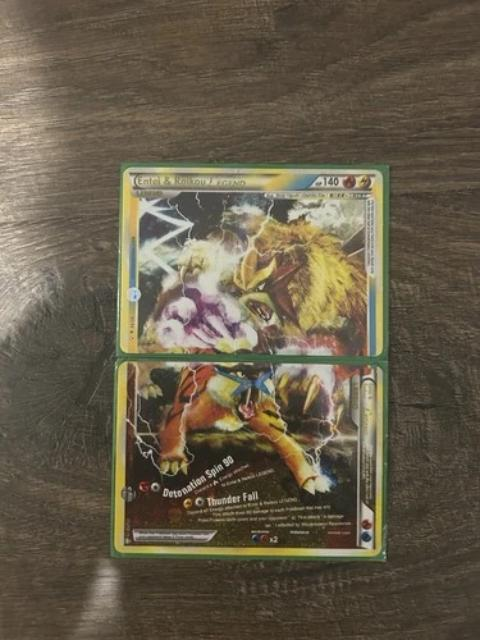Card: (114, 358, 387, 561), (117, 164, 386, 358)
Name: (132, 171, 251, 190), (358, 380, 378, 438)
